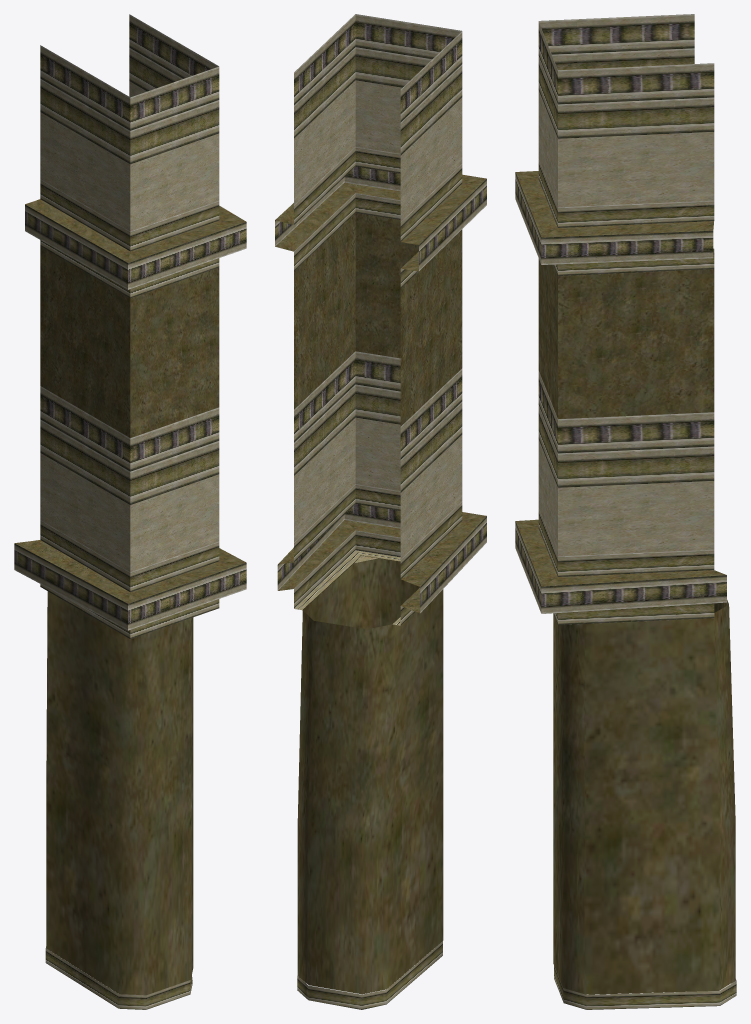
Rendered from CH09_SMAUG_PLAYSURFACE_LAIR115.fbx.
3 views of the same model, side by side, from view 1: azimuth 30°, elevation 25°; view 2: azimuth 150°, elevation 25°; view 3: azimuth 270°, elevation 25° (orthographic). The views are drawn at different scales.
Parts seen in each view (by area): view 1: CH09_SMAUG_PLAYSURFACE_LAIR115; view 2: CH09_SMAUG_PLAYSURFACE_LAIR115; view 3: CH09_SMAUG_PLAYSURFACE_LAIR115.
Part boxes in pixels (x1=…): CH09_SMAUG_PLAYSURFACE_LAIR115: x1=14, y1=14, x2=246, y2=1009; CH09_SMAUG_PLAYSURFACE_LAIR115: x1=275, y1=14, x2=486, y2=1009; CH09_SMAUG_PLAYSURFACE_LAIR115: x1=515, y1=14, x2=736, y2=1009.
Bounding box in the file's own units: 33580 × 192145 × 40658.
6 materials, 6 textured.
